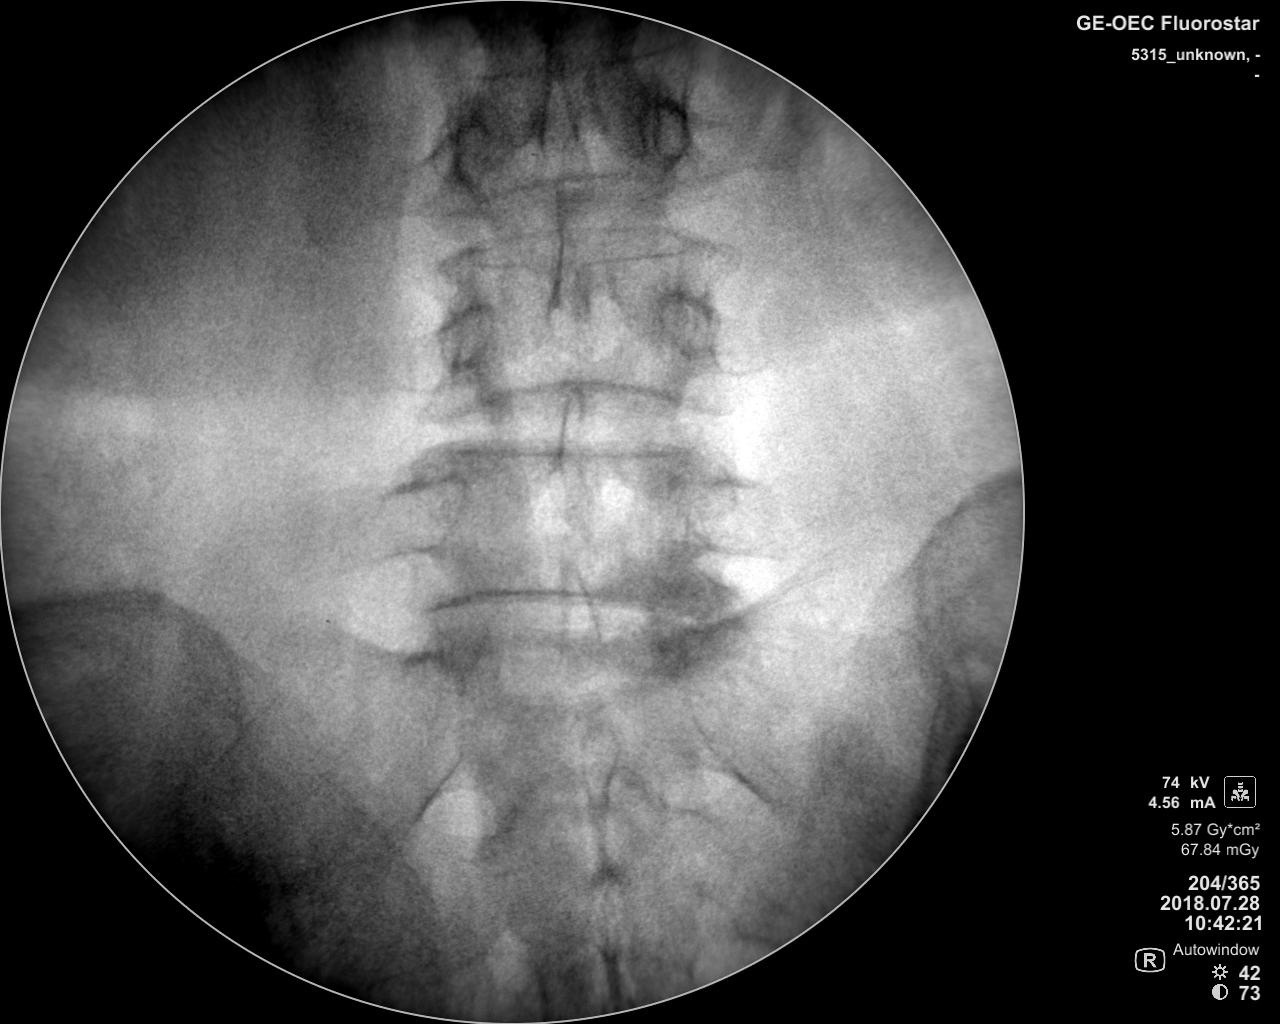eyes: (674, 465, 758, 562), (650, 285, 718, 362), (411, 474, 473, 554), (429, 300, 491, 374), (441, 115, 501, 184), (639, 91, 691, 167)
line: (417, 378, 728, 430), (414, 574, 713, 624), (427, 220, 713, 273), (411, 432, 726, 473), (444, 169, 692, 208)
nose: (539, 182, 592, 355), (550, 545, 606, 684), (528, 36, 583, 160), (543, 371, 598, 492)
